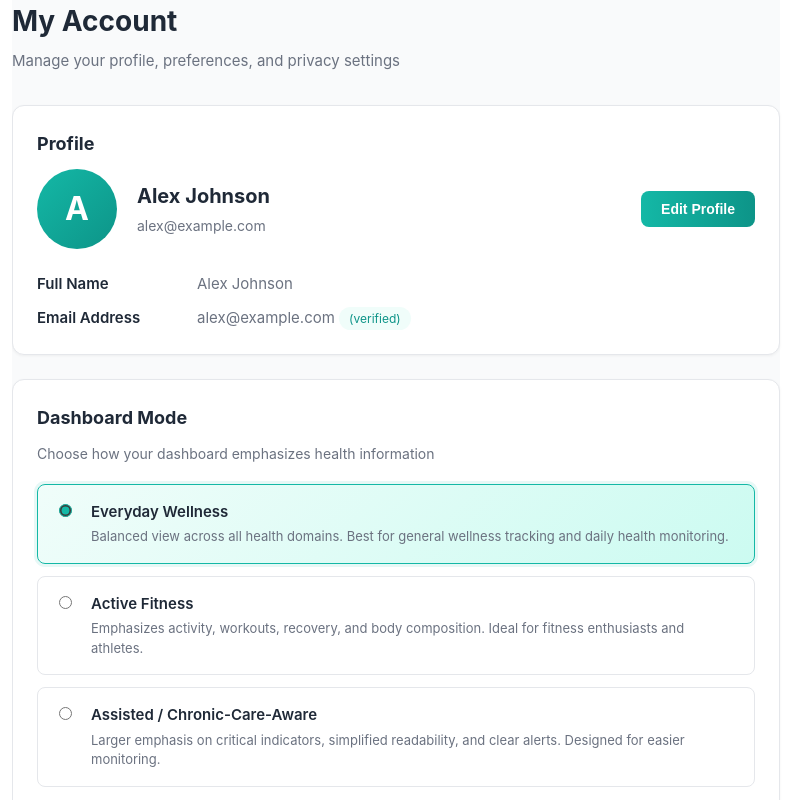
Test: MyAccount — edit profile validation › shows a validation error when the full name is empty
This screenshot has width=797, height=800.
Click the button "Edit Profile": coordinates (698, 208) [641,190,755,226]
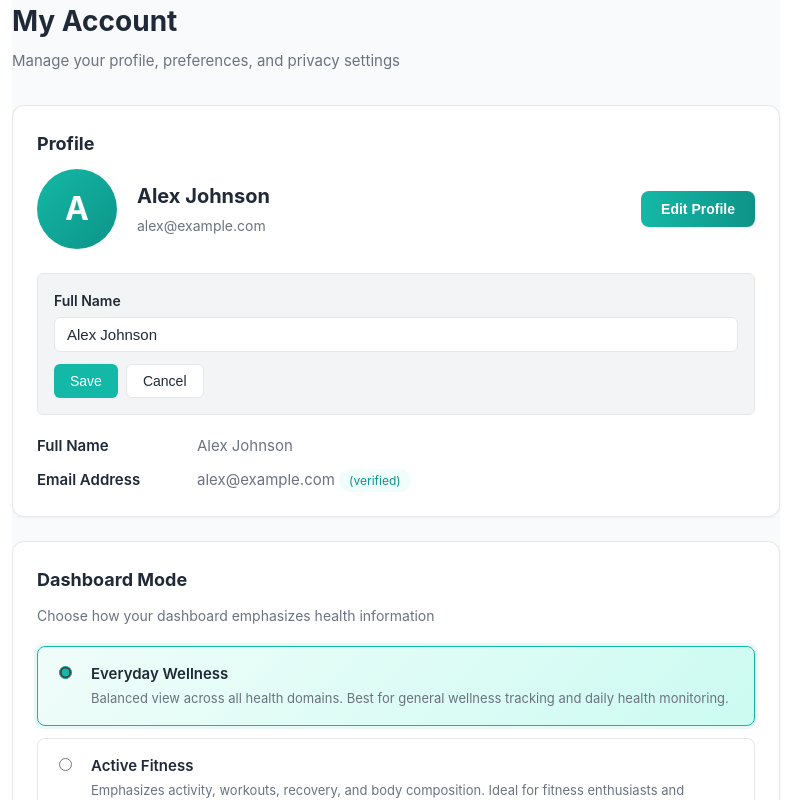
Clear the field labelled "Full Name": coordinates (396, 334) [54,316,738,352]
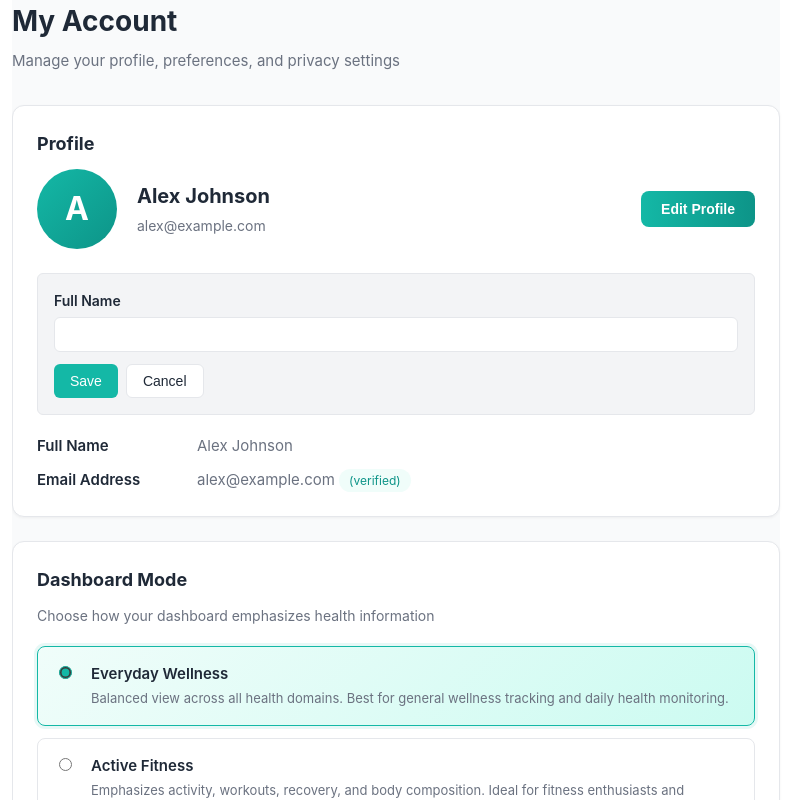
Click the button "Save": coordinates (86, 380) [54,364,118,398]
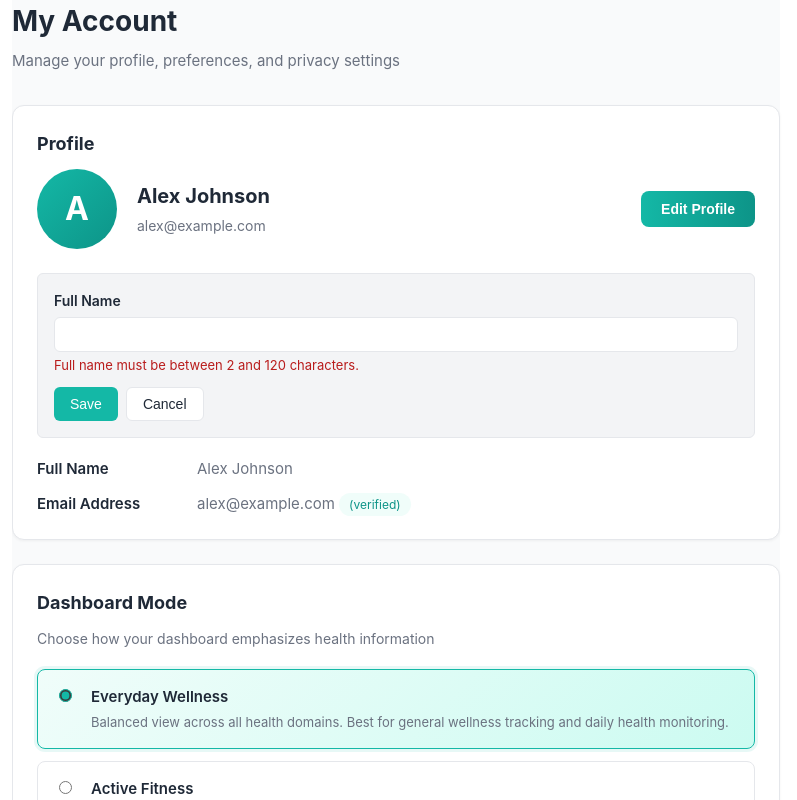
Now the text "Full name must be between 2 and 120 characters." is shown, box [54,356,359,372]
